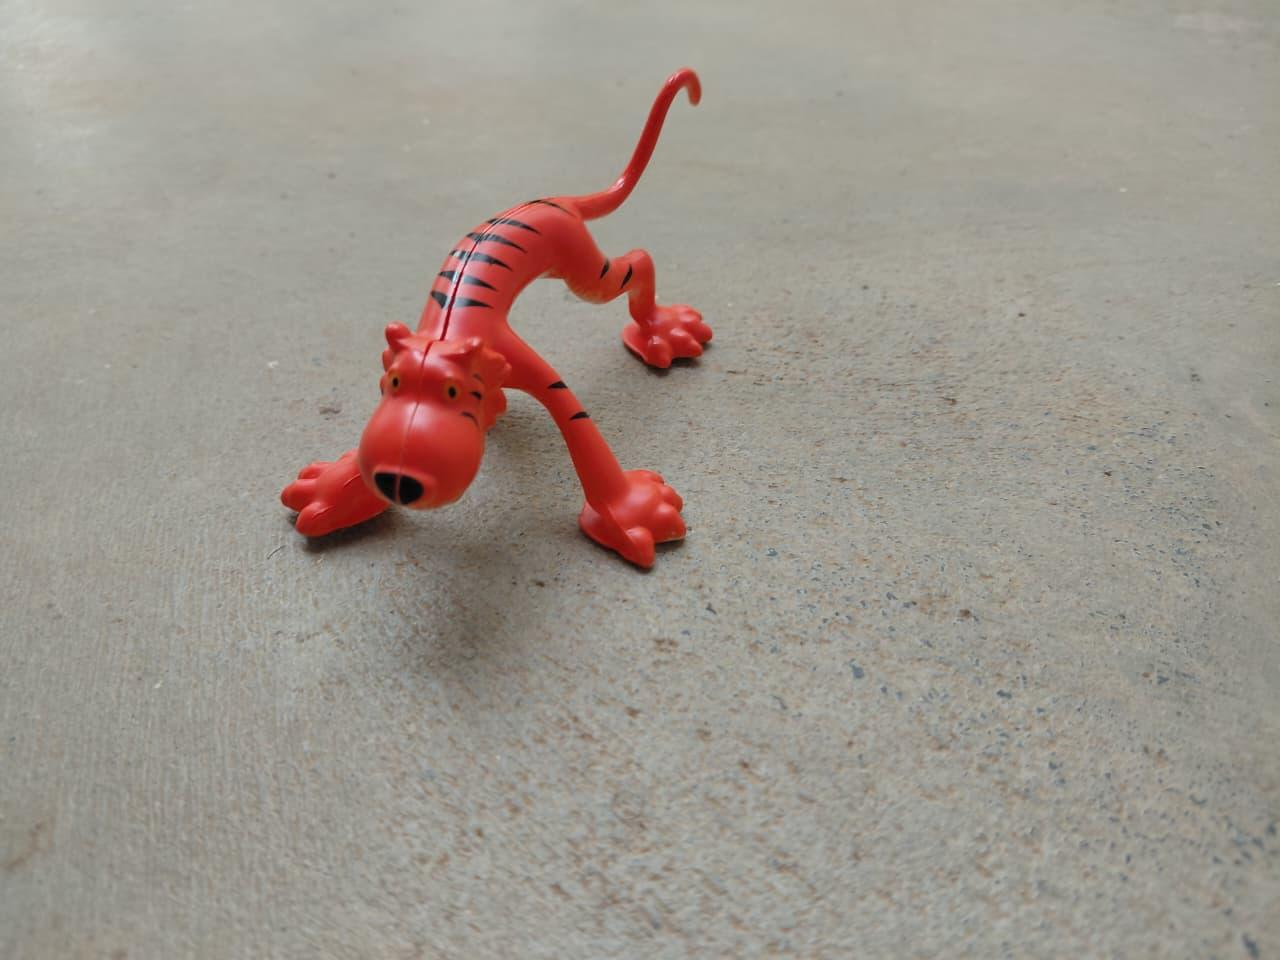tiger: (266, 58, 722, 575)
